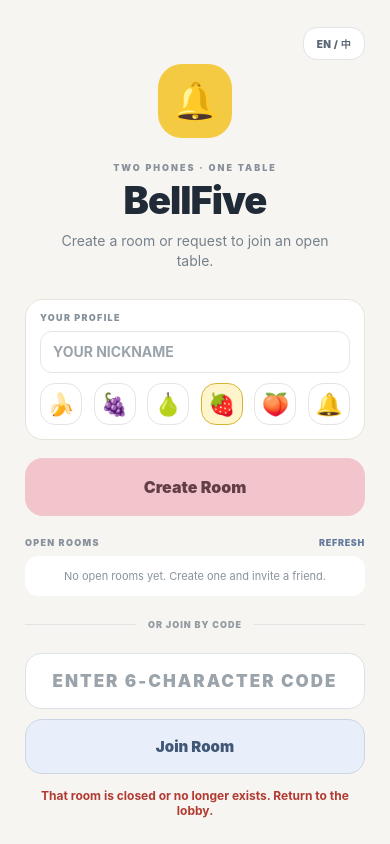
Test: RoomEntry › shows validation and server errors
The image size is (390, 844).
Type "bad" into the field named "Room code".
click(195, 680); type("bad")  # box [25,652,365,708]
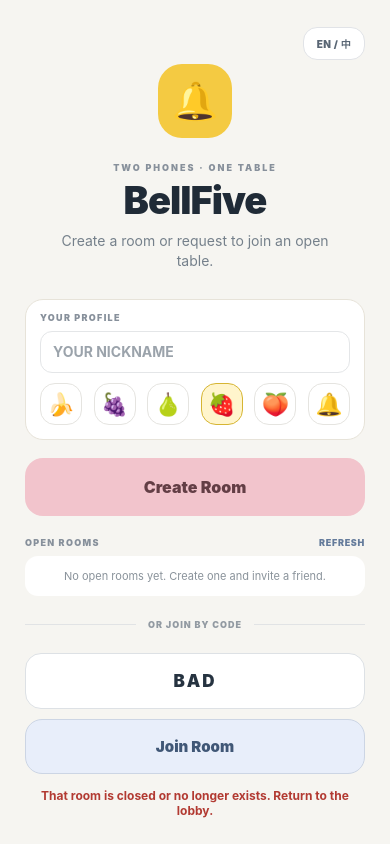
Click the button "Join Room".
click(195, 746)  # box [25,718,365,774]
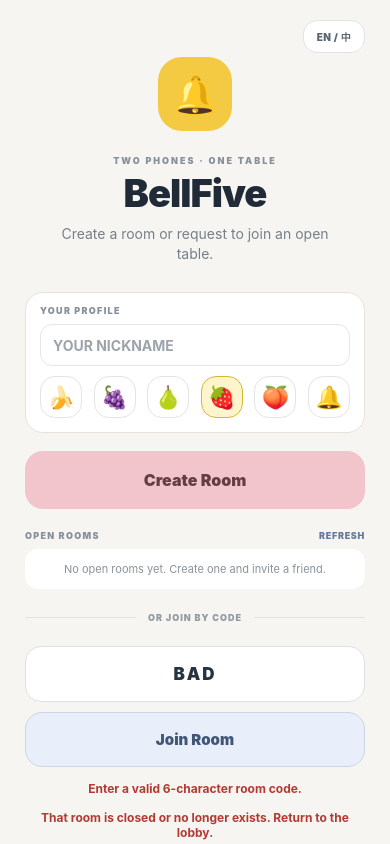
Expected: the text "That room is closed or no longer exists. Return to the lobby." is shown, [25,810,365,840]
Result: the text "Enter a valid 6-character room code." is shown at [88,781,302,796]
